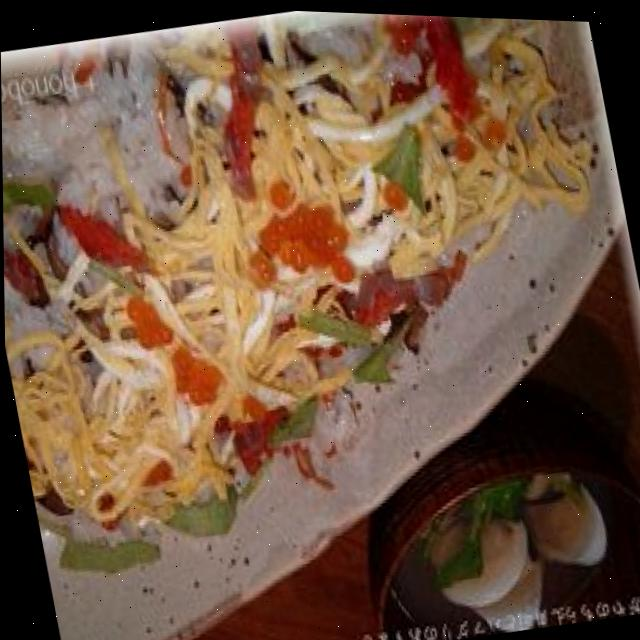寿司卷物: (0, 34, 629, 601)
